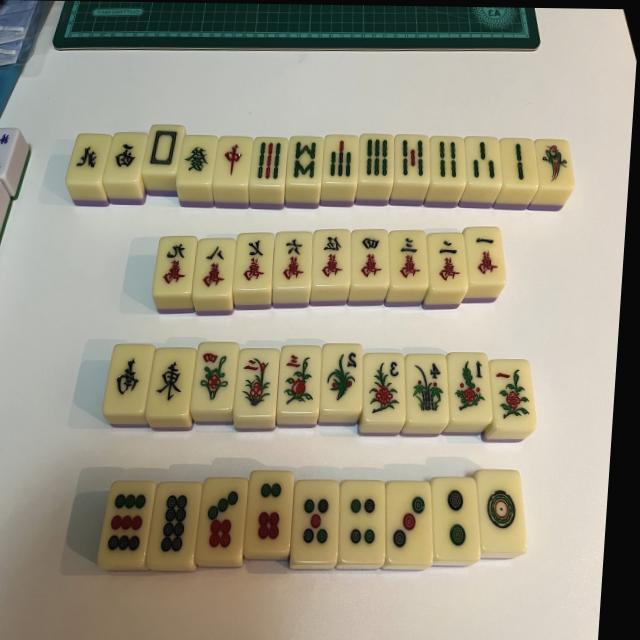1B: (535, 140, 572, 187)
1C: (459, 227, 508, 285)
1D: (470, 469, 532, 558)
1F: (444, 355, 494, 423), (0, 128, 17, 180)
1S: (485, 361, 540, 428)
2B: (501, 140, 536, 184)
2C: (423, 233, 471, 290)
2D: (426, 476, 486, 563)
2F: (317, 342, 365, 411)
2S: (233, 348, 282, 417)
3B: (464, 138, 501, 184)
3C: (385, 230, 431, 287)
3D: (381, 480, 439, 564)
3F: (359, 354, 409, 424)
3S: (277, 348, 323, 414)
4B: (428, 137, 467, 183)
4C: (348, 230, 390, 285)
4D: (333, 480, 388, 564)
4F: (402, 356, 452, 423)
4S: (191, 342, 240, 410)
5B: (392, 134, 430, 181)
5C: (312, 232, 352, 287)
5D: (289, 479, 341, 563)
6B: (357, 135, 396, 182)
6C: (274, 233, 314, 287)
6D: (243, 471, 294, 559)
7B: (321, 135, 360, 184)
7C: (234, 234, 276, 289)
7D: (195, 476, 248, 565)
8B: (285, 137, 324, 185)
8C: (194, 239, 237, 296)
8D: (146, 482, 203, 571)
9B: (250, 136, 289, 185)
9C: (152, 238, 196, 293)
9D: (98, 482, 159, 570)
EW: (144, 347, 195, 416)
GD: (179, 136, 216, 179)
NW: (70, 135, 107, 174)
RD: (215, 137, 251, 182)
SW: (105, 345, 154, 408)
WD: (146, 127, 183, 170)
WW: (111, 137, 141, 172)
